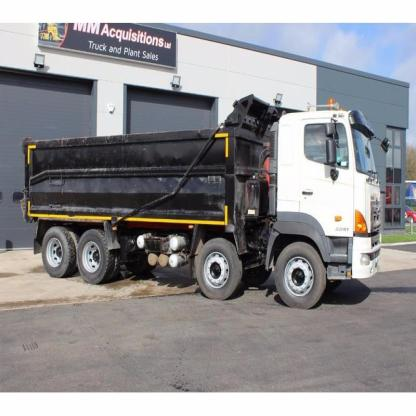dump_truck: (18, 84, 397, 329)
